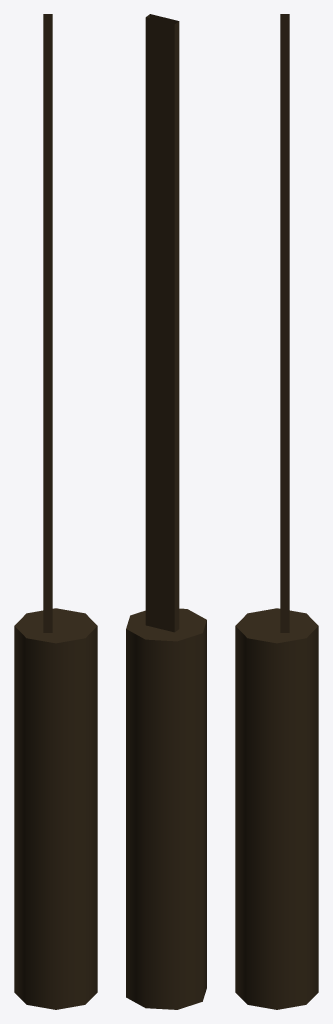
The model's file is Itr_Obj_Grandfatherclock2_Pendulum_03.FBX.
The picture shows the model from 3 angles, left to right: view 1: azimuth 90°, elevation 25°; view 2: azimuth 150°, elevation 25°; view 3: azimuth 270°, elevation 25°; orthographic projection.
Visible parts, largest first — view 1: Itr_Obj_Grandfatherclock2_Pendulum_03; view 2: Itr_Obj_Grandfatherclock2_Pendulum_03; view 3: Itr_Obj_Grandfatherclock2_Pendulum_03.
Part boxes in pixels (x1,y1,x2,y2): Itr_Obj_Grandfatherclock2_Pendulum_03: (14, 14, 97, 1009); Itr_Obj_Grandfatherclock2_Pendulum_03: (126, 14, 206, 1009); Itr_Obj_Grandfatherclock2_Pendulum_03: (235, 14, 318, 1009).
Bounding box in the file's own units: 1.41 × 18.17 × 1.41.
